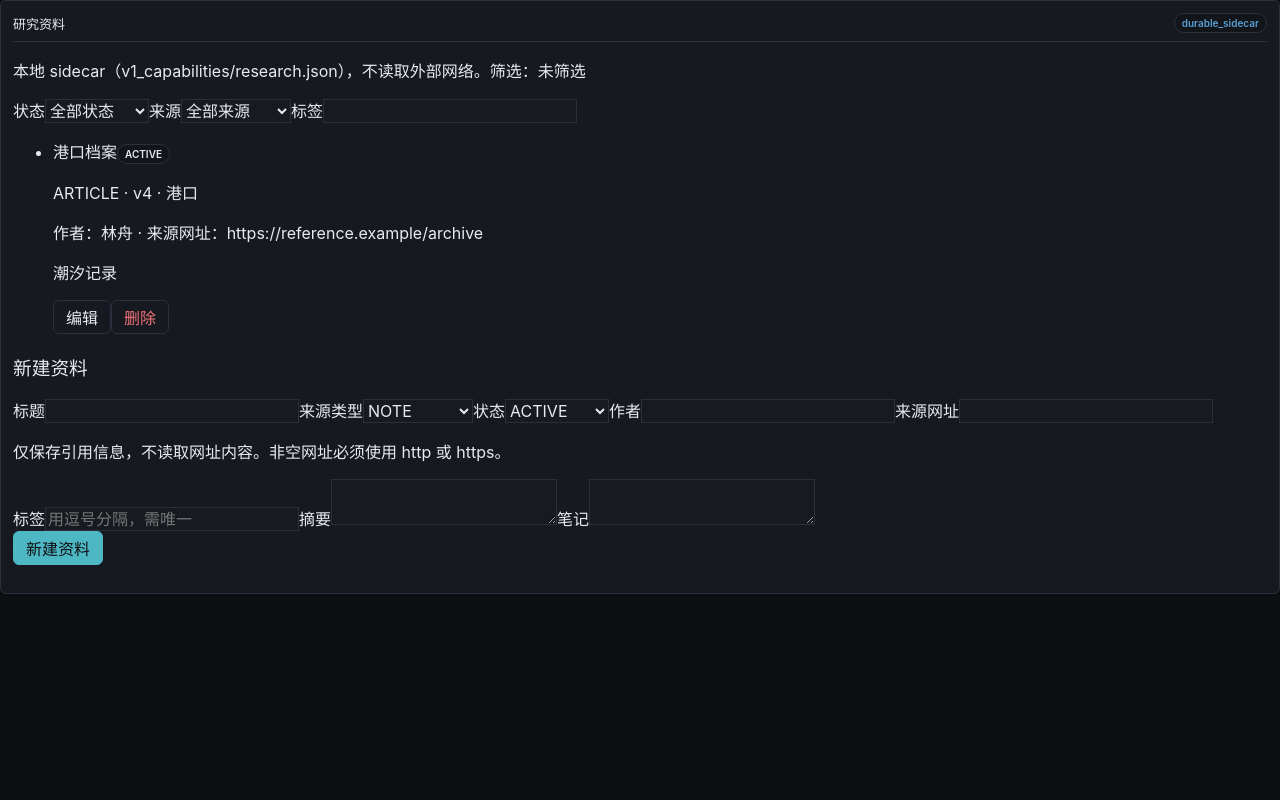
it: research panel › deletes only after second confirmation with the exact novel, ID and version
Click the button "删除".
click(140, 317)  # box [111,300,169,334]
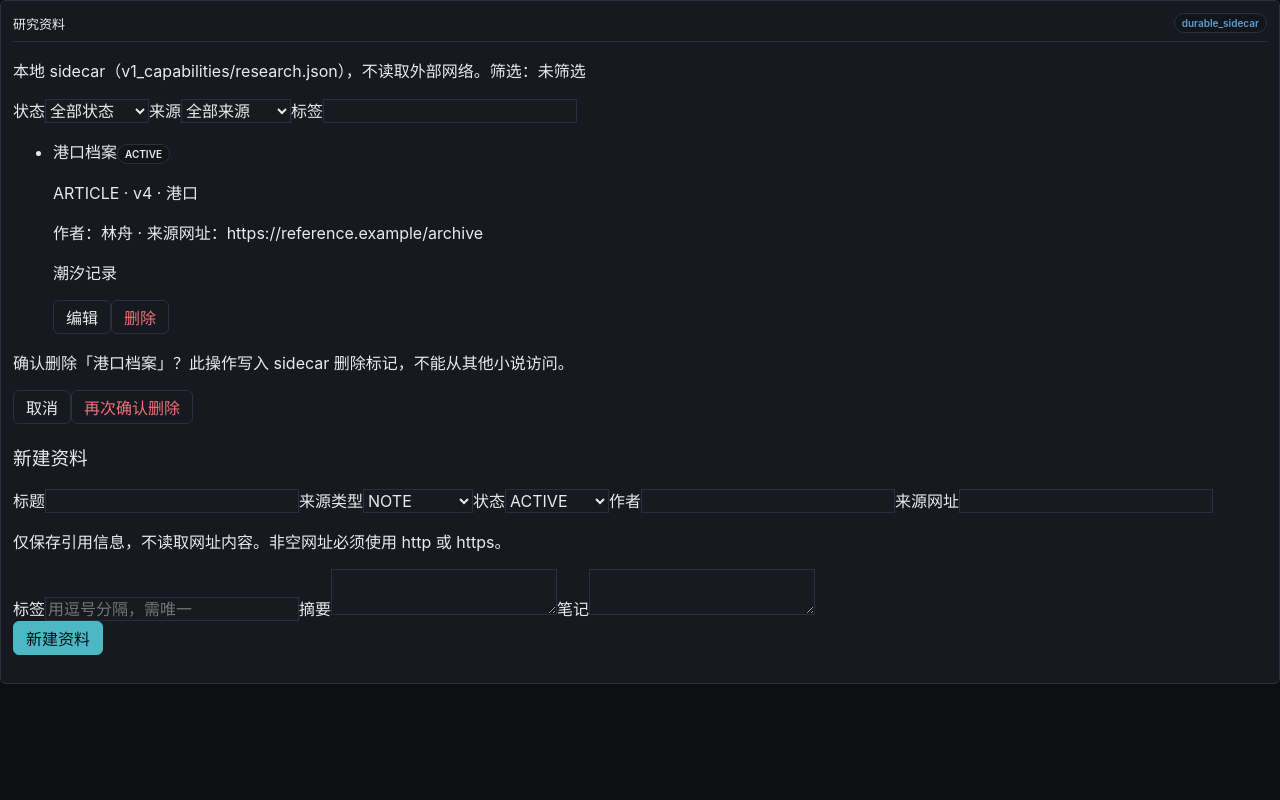
Click the button "再次确认删除".
click(132, 407)  # box [71,390,193,424]
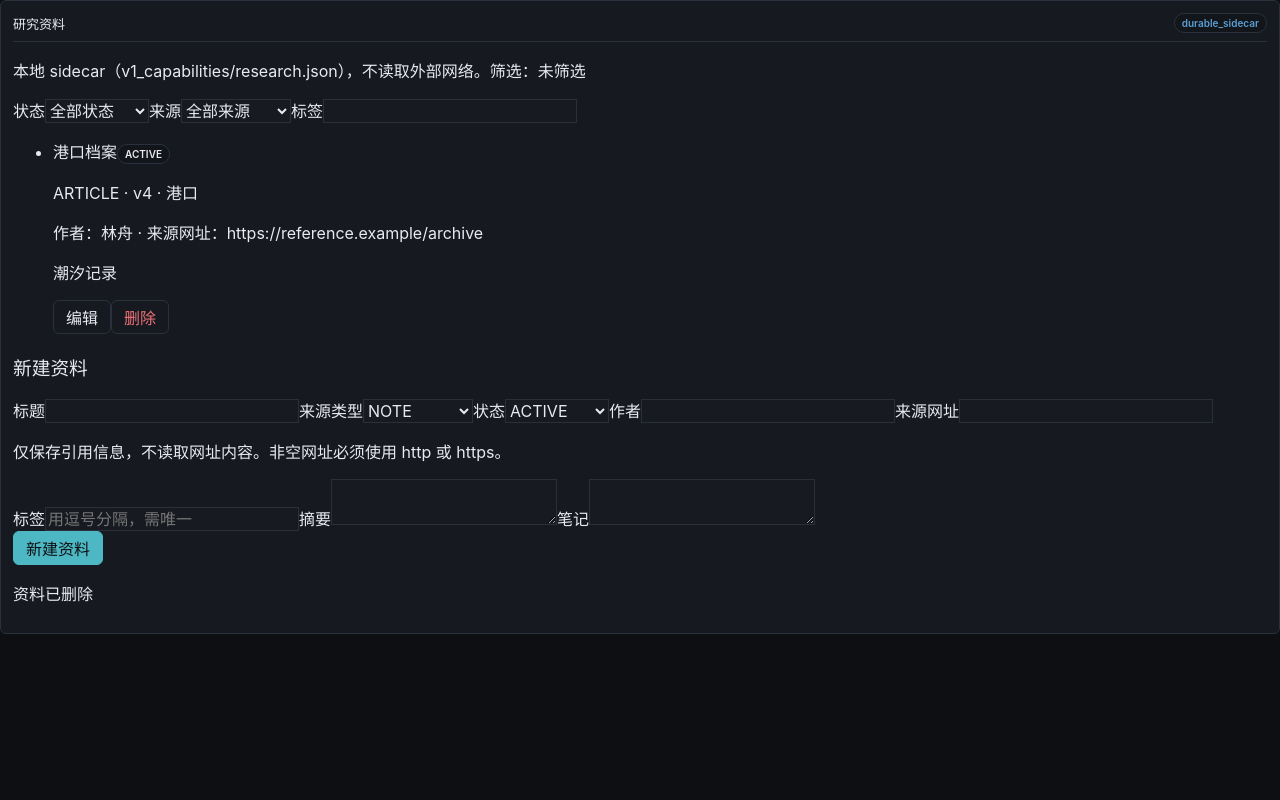
Expected: the text "资料已删除" is shown, [13,584,93,604]
